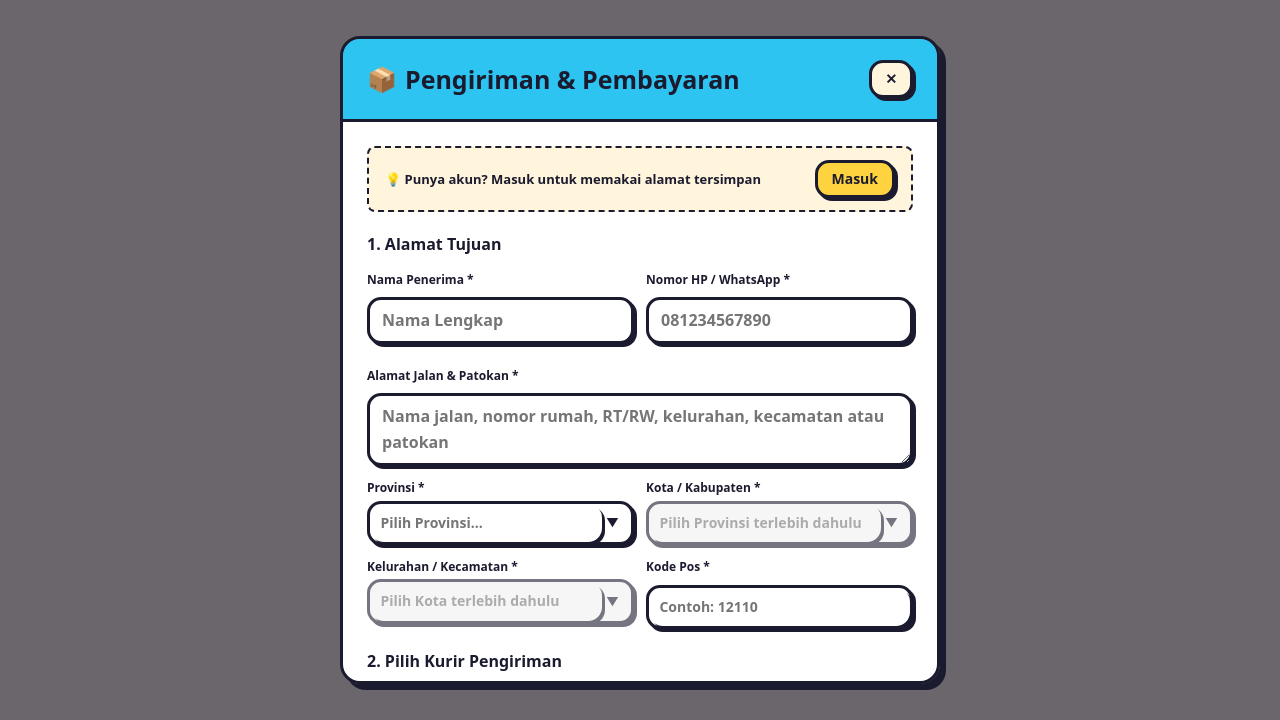
Test: CheckoutModal › validasi real-time nama penerima (min 2 karakter)
# Saat touched tapi hanya 1 karakter
In the field labelled "Nama Penerima *": x=500, y=321 [367, 297, 634, 344], type "A"
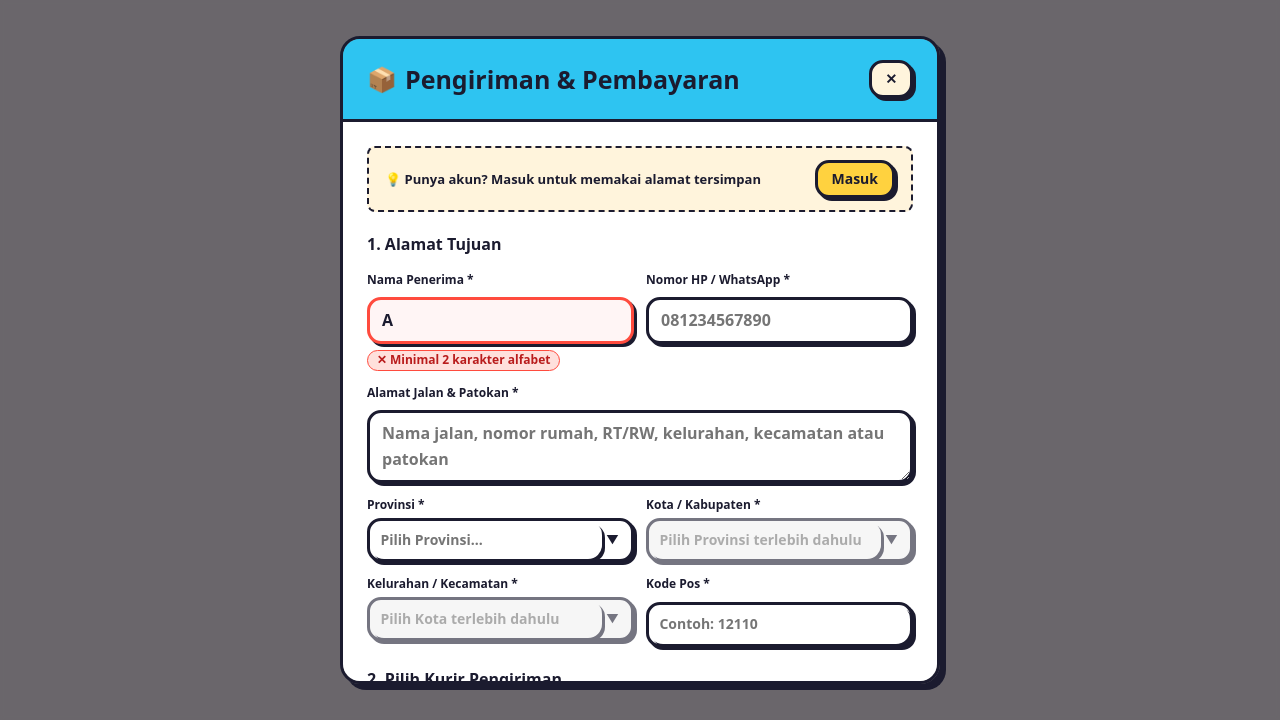
Now the text "✕ Minimal 2 karakter alfabet" is shown, box [367, 350, 560, 371]
Replace the text in the field labelled "Nama Penerima *" with "Budi Santoso": x=500, y=321 [367, 297, 634, 344]
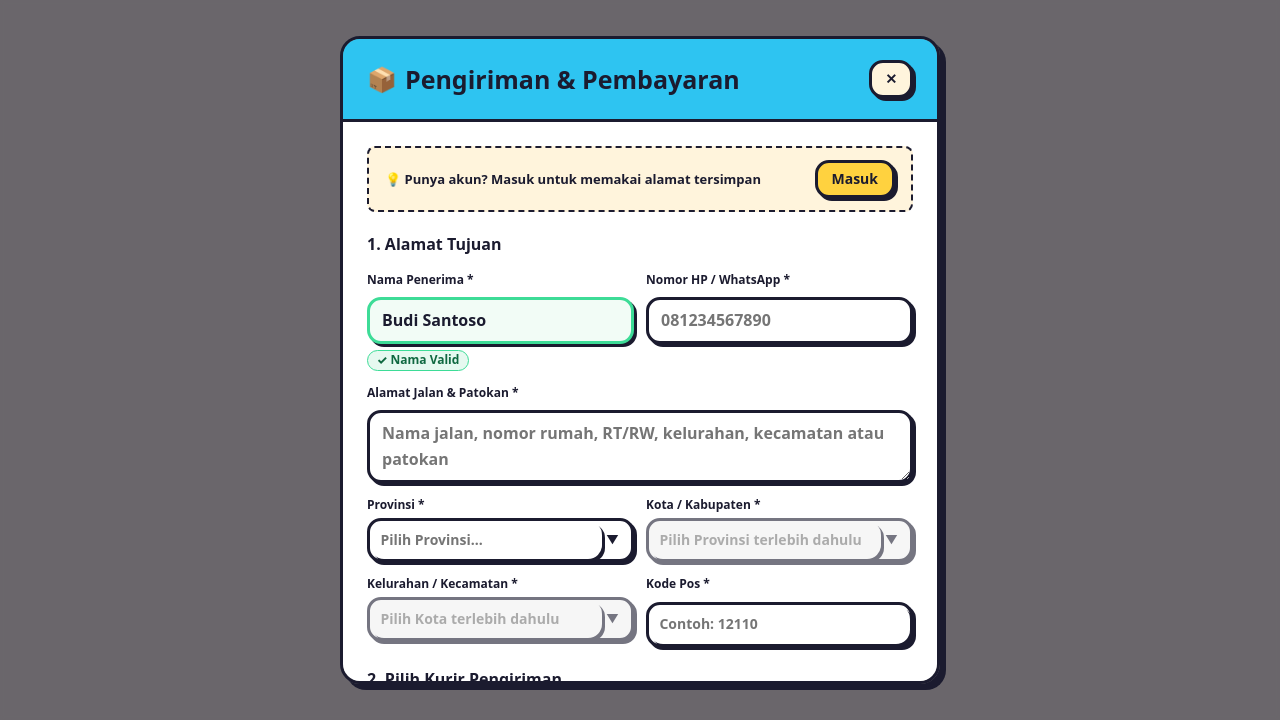
Now the text "✓ Nama Valid" is shown, box [367, 350, 469, 371]
